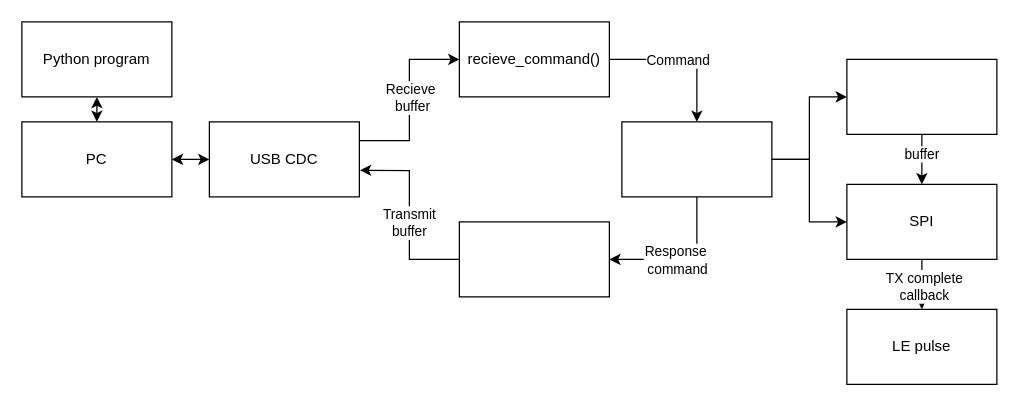
Image size: 1019x406. Some labels were removed from this diagram. The centre of each missing label's shape, as x and y in pixels:
"phase_shifter" belongs at [921,96].
"process_command()" belongs at [696,159].
"transmit_command()" belongs at [533,259].
